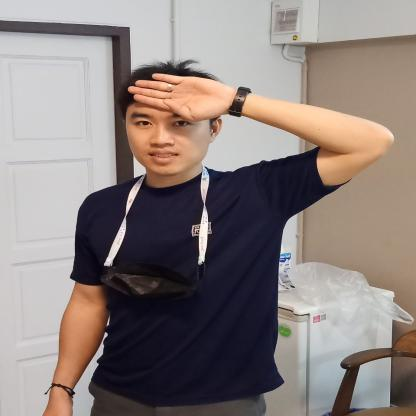Sick: (118, 63, 398, 186)
